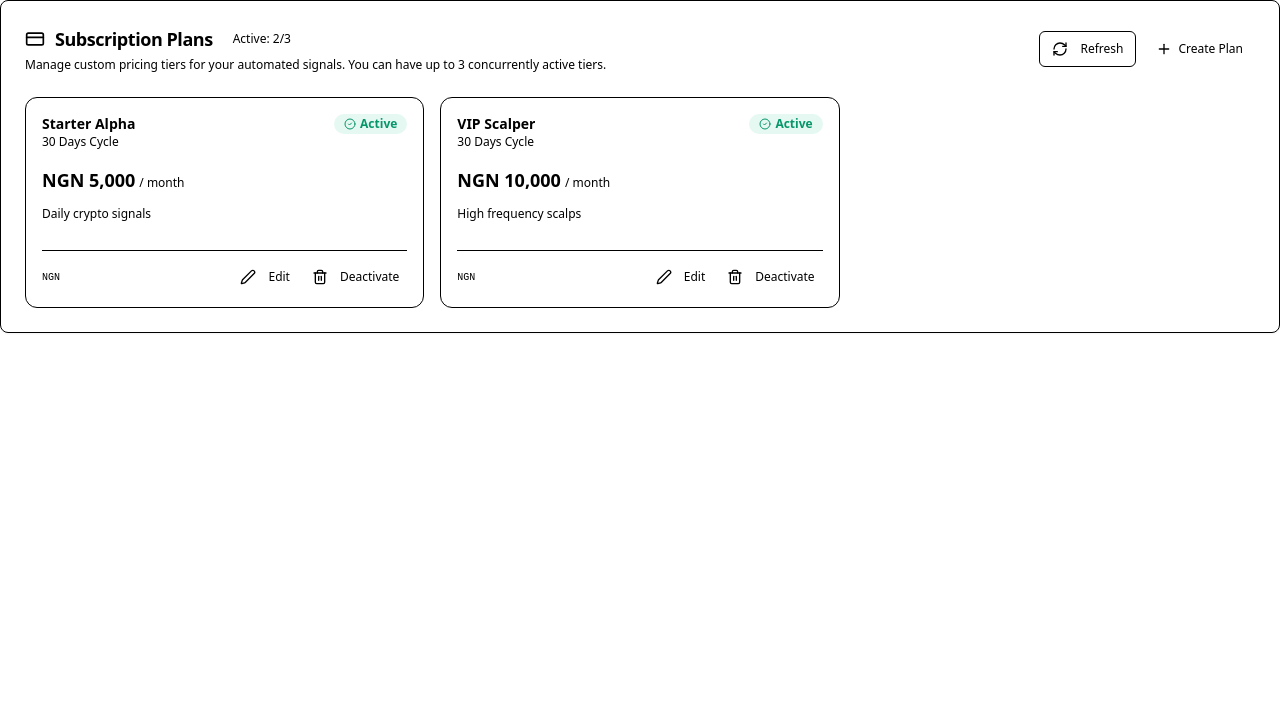
Test: ProviderPlanManager › opens create plan modal, prevents duplicate plan names, and submits to POST /provider/plans
This screenshot has width=1280, height=720.
Expected: the heading "Starter Alpha" is shown, [42, 114, 135, 134]
# Open modal
Click the button "Create Plan" at (1200, 49), box [1144, 31, 1255, 67]
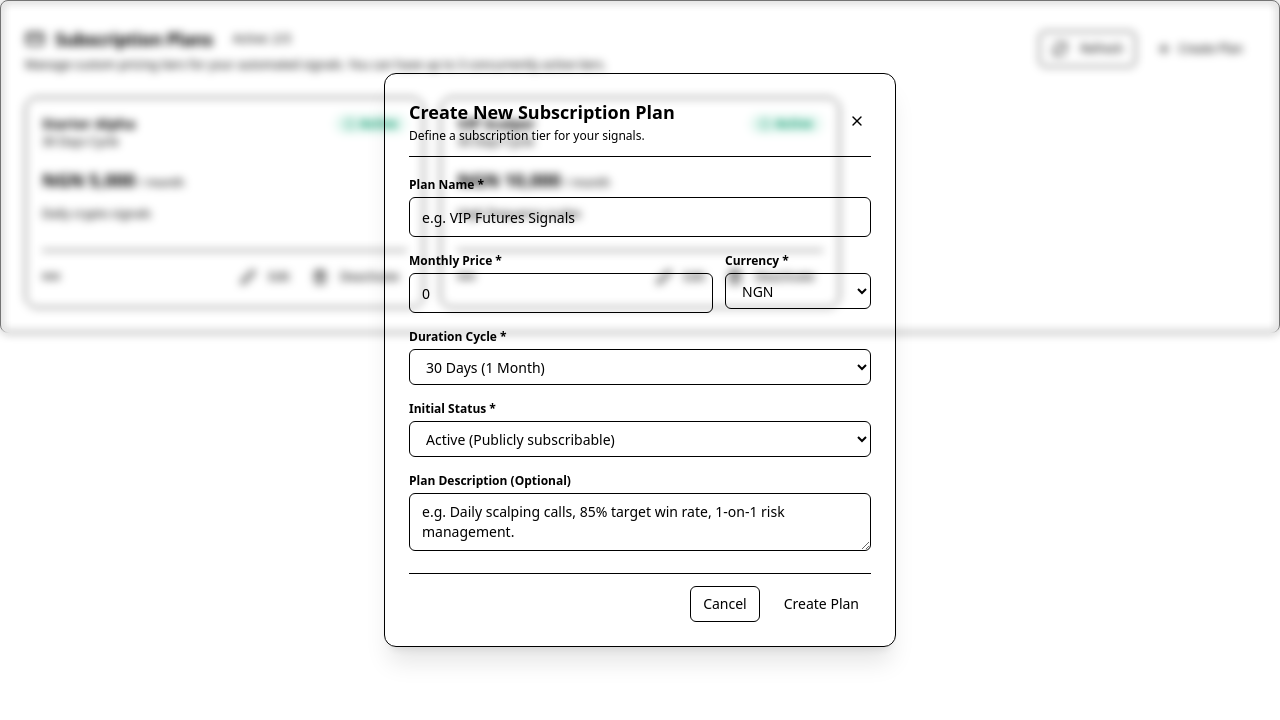
Expected: the heading "Create New Subscription Plan" is shown, [409, 98, 675, 126]
# Type duplicate name "Starter Alpha"
Type "Starter Alpha" into the field with placeholder "e.g. VIP Futures Signals" at (640, 217), box [409, 197, 871, 237]
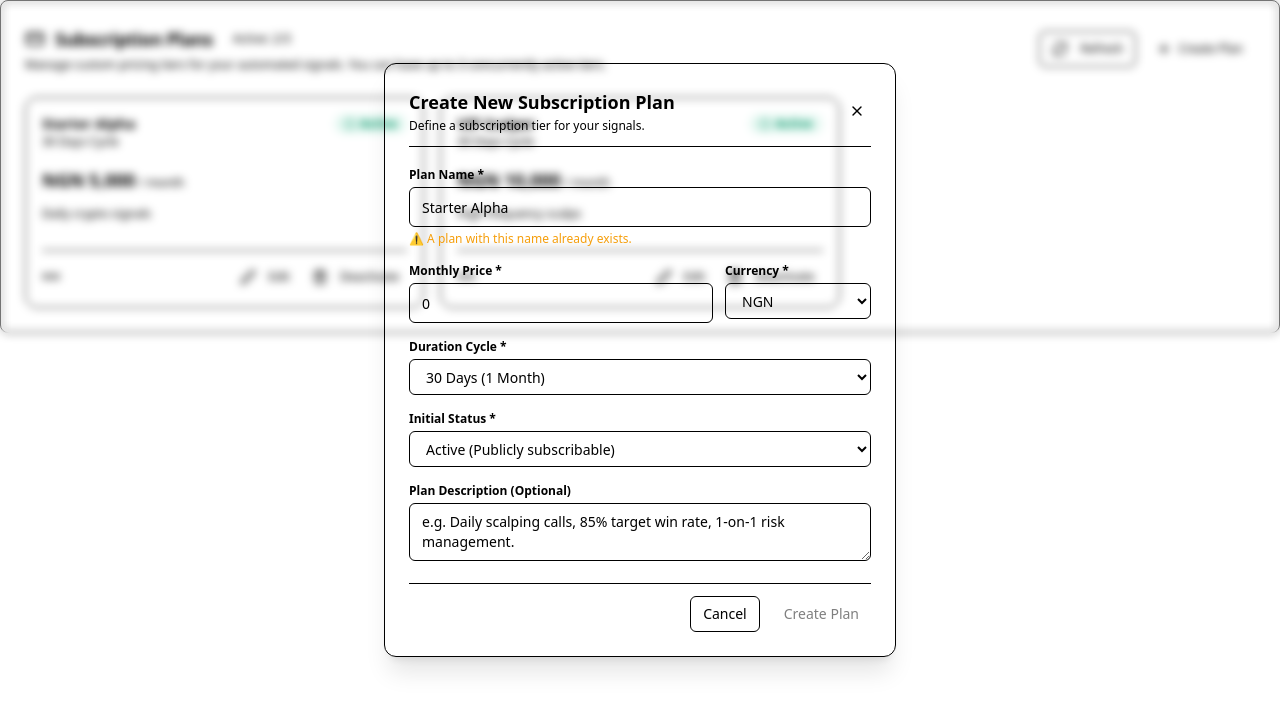
Expected: the text "⚠️ A plan with this name already exists." is shown, [409, 230, 632, 247]
# Change to unique name
Clear the field with placeholder "e.g. VIP Futures Signals" at (640, 207), box [409, 187, 871, 227]
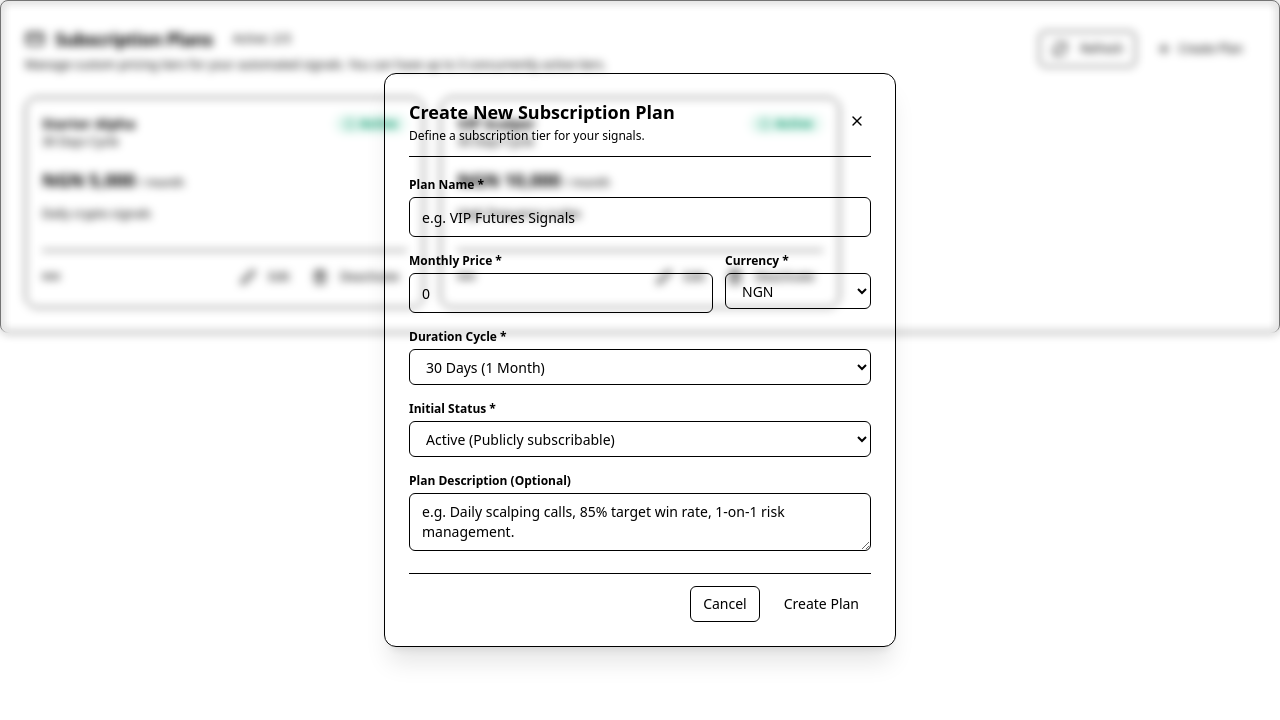
Type "New Unique Plan" into the field with placeholder "e.g. VIP Futures Signals" at (640, 217), box [409, 197, 871, 237]
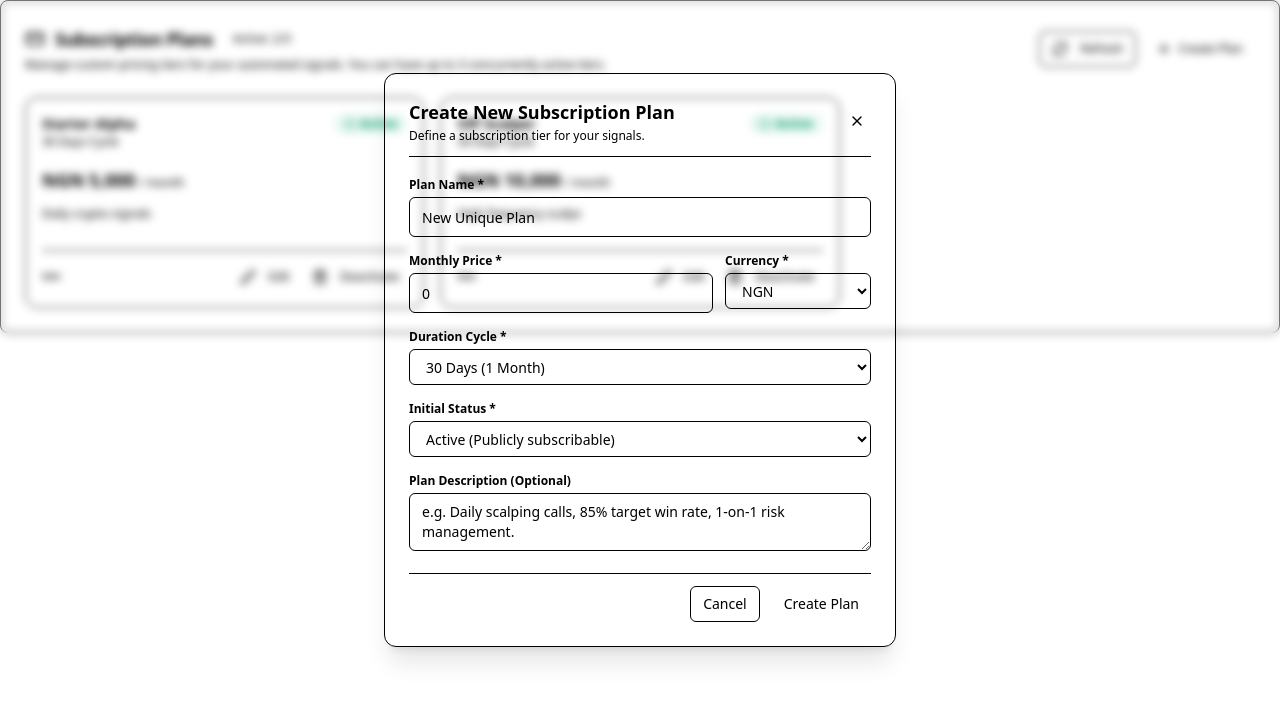
# Enter Price
Replace the text in the number field with placeholder "e.g. 5000" with "7500" at (561, 293), box [409, 273, 713, 313]
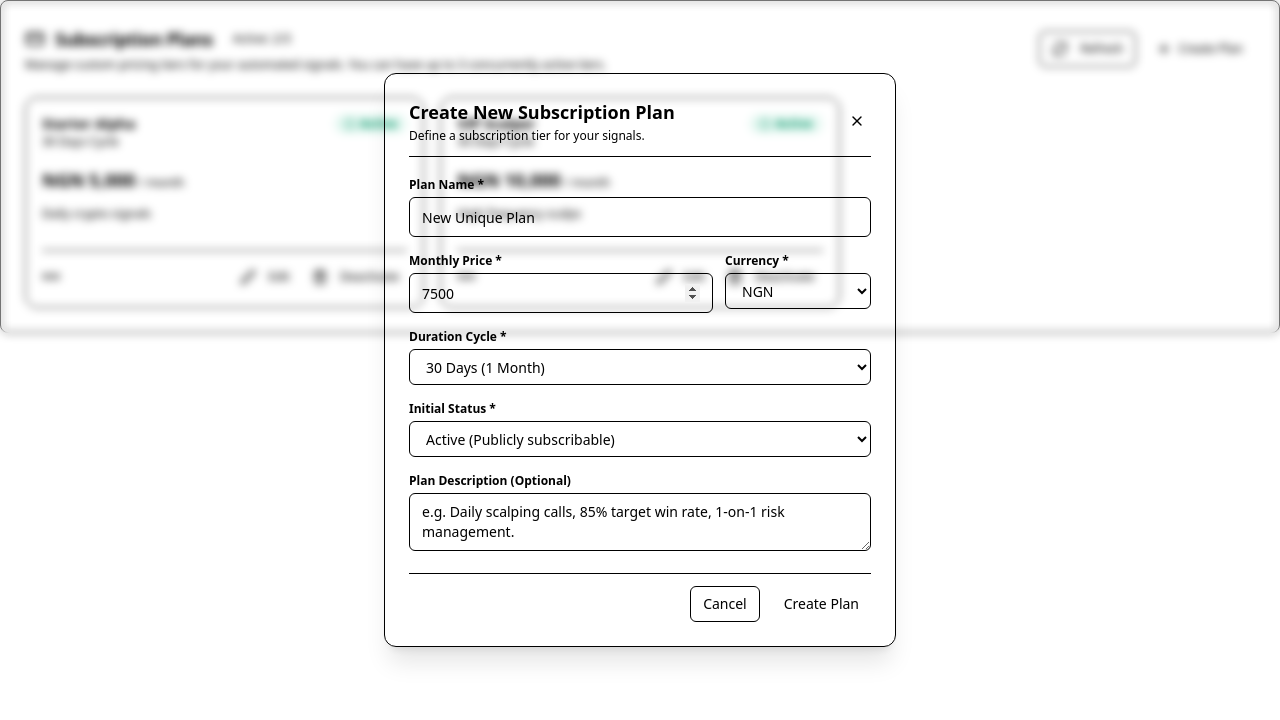
Expected: the submit button is shown
Click the submit button at (821, 604), box [772, 586, 871, 622]
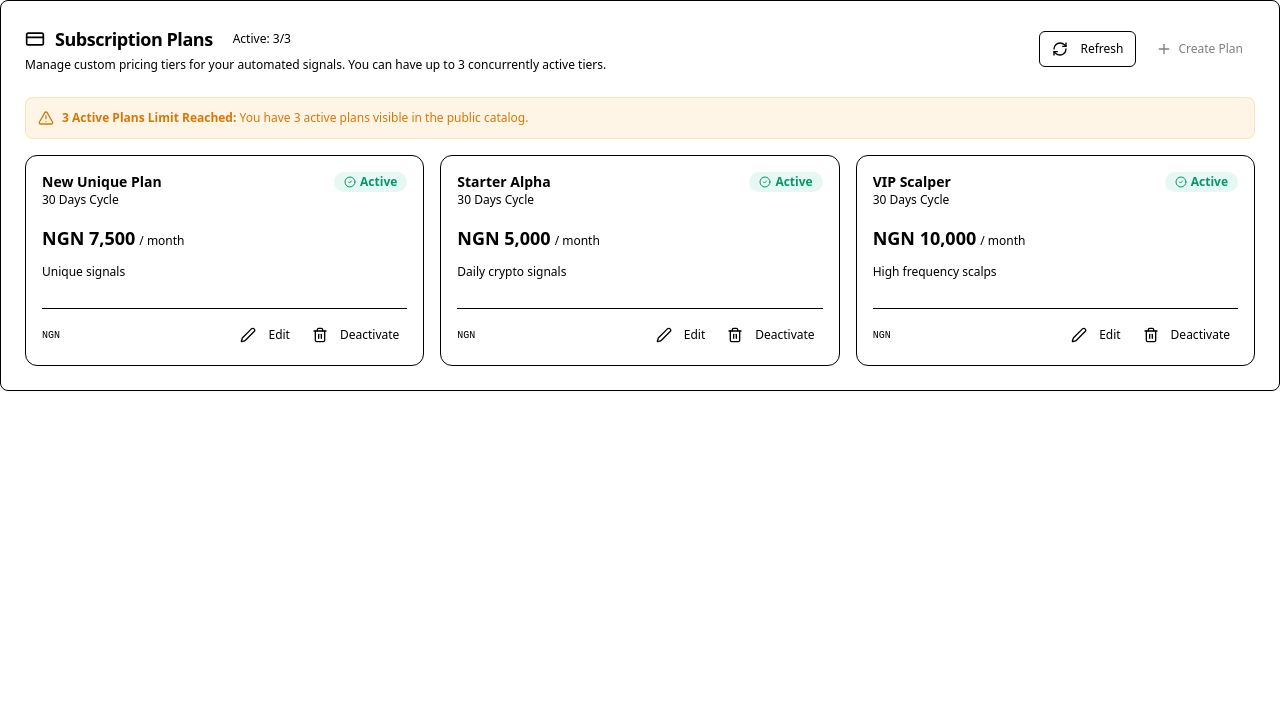
Expected: the heading "New Unique Plan" is shown, [42, 172, 162, 192]
